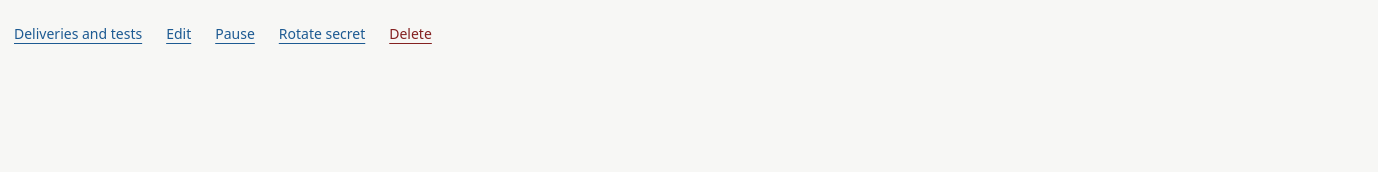
it: SubscriptionActions › explains {"kind":"unavailable"}
Click the button with aria-label "Pause LA Metro": (235, 34) [213, 12, 257, 56]
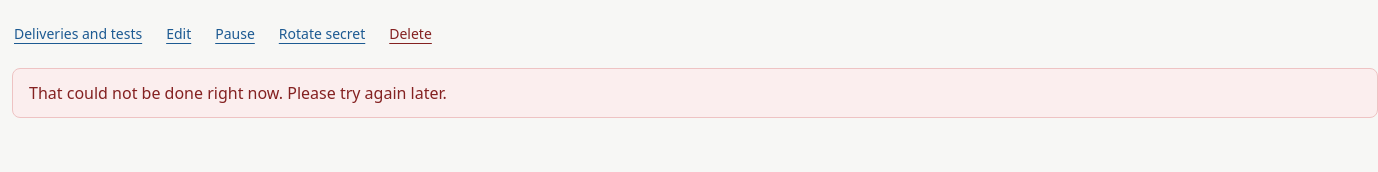
Expected: the message shows "could not be done right now", [29, 82, 447, 104]
